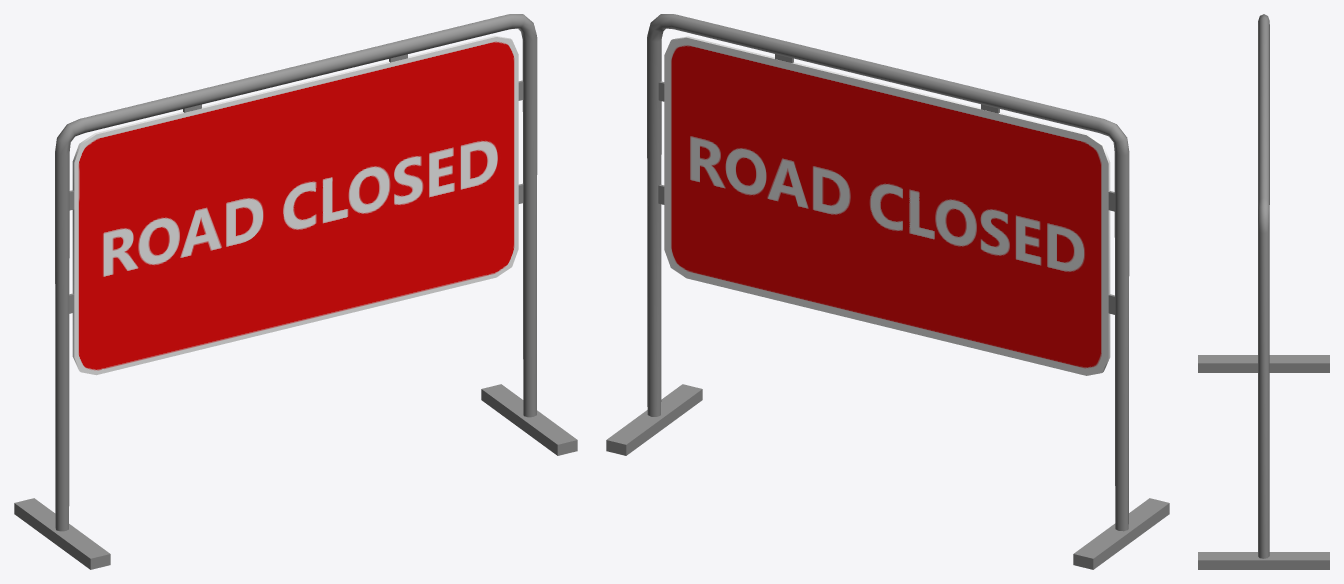
Rendered from Closed.fbx.
The picture shows the model from 3 angles, left to right: view 1: azimuth 30°, elevation 25°; view 2: azimuth 150°, elevation 25°; view 3: azimuth 270°, elevation 25°; orthographic projection. The views are drawn at different scales.
Visible parts, largest first — view 1: Closed; view 2: Closed; view 3: Closed.
Part boxes in pixels (x1,y1,x2,y2): Closed: (14, 14, 577, 569); Closed: (606, 14, 1169, 569); Closed: (1198, 14, 1329, 569).
Size of the model in its own units: 0.1022 by 0.0835 by 0.0277.
Materials: 2 (2 with a texture image).
